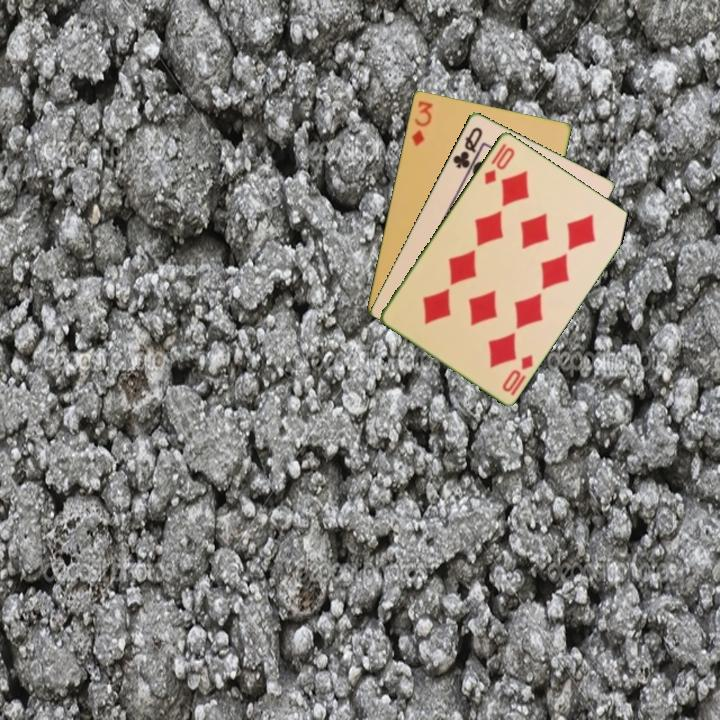10d: (480, 140, 518, 187), (498, 351, 536, 395)
3d: (408, 97, 435, 148)
Qc: (449, 123, 485, 171)
